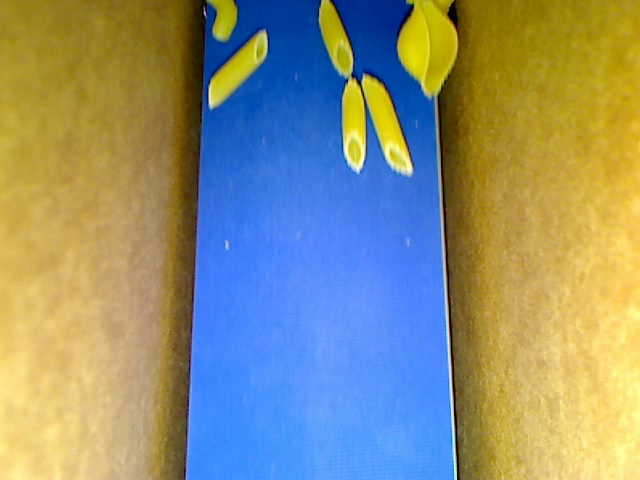elbow: (203, 1, 238, 44)
penne: (359, 71, 414, 178), (207, 27, 268, 110), (319, 1, 354, 79), (340, 75, 366, 174)
shell: (395, 1, 458, 101)
